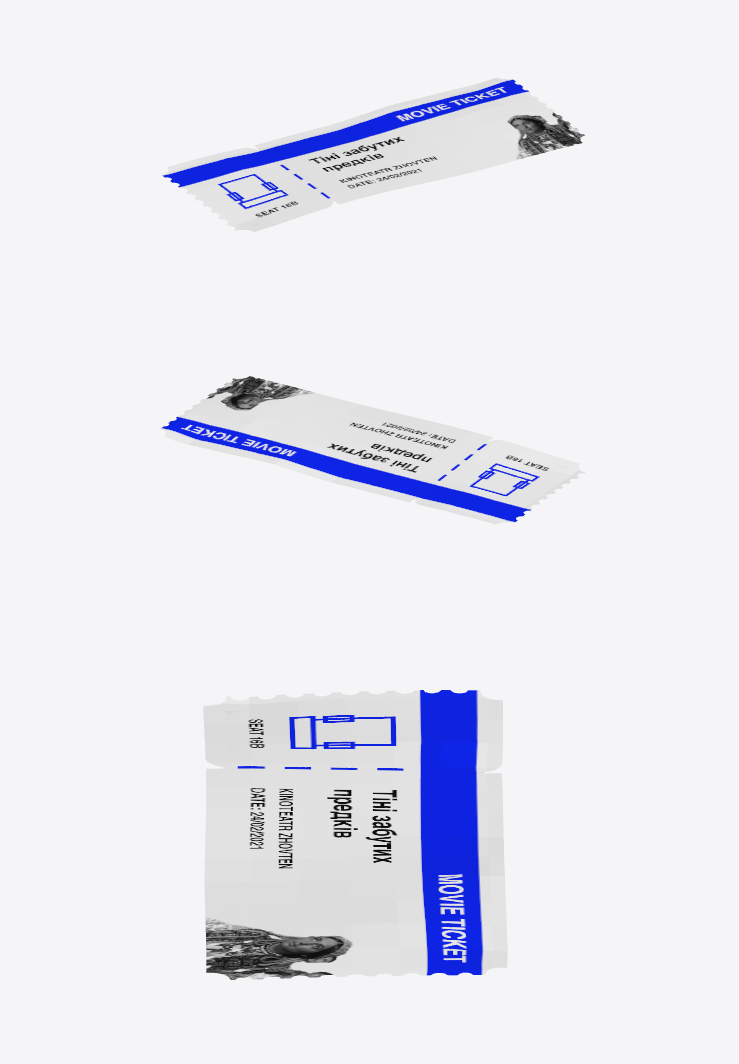
The model's file is ticket.glb.
The picture shows the model from 3 angles, top to bottom: view 1: azimuth 30°, elevation 25°; view 2: azimuth 150°, elevation 25°; view 3: azimuth 270°, elevation 25°; orthographic projection. The views are drawn at different scales.
Visible parts, largest first — view 1: Plane; view 2: Plane; view 3: Plane.
Boxes of the visible parts, bbox=[...] form: Plane: bbox=[162, 77, 584, 231]; Plane: bbox=[161, 376, 585, 524]; Plane: bbox=[203, 690, 507, 979].
Size of the model in its own units: 2.88 by 0.0711 by 2.
1 material, 1 textured.
